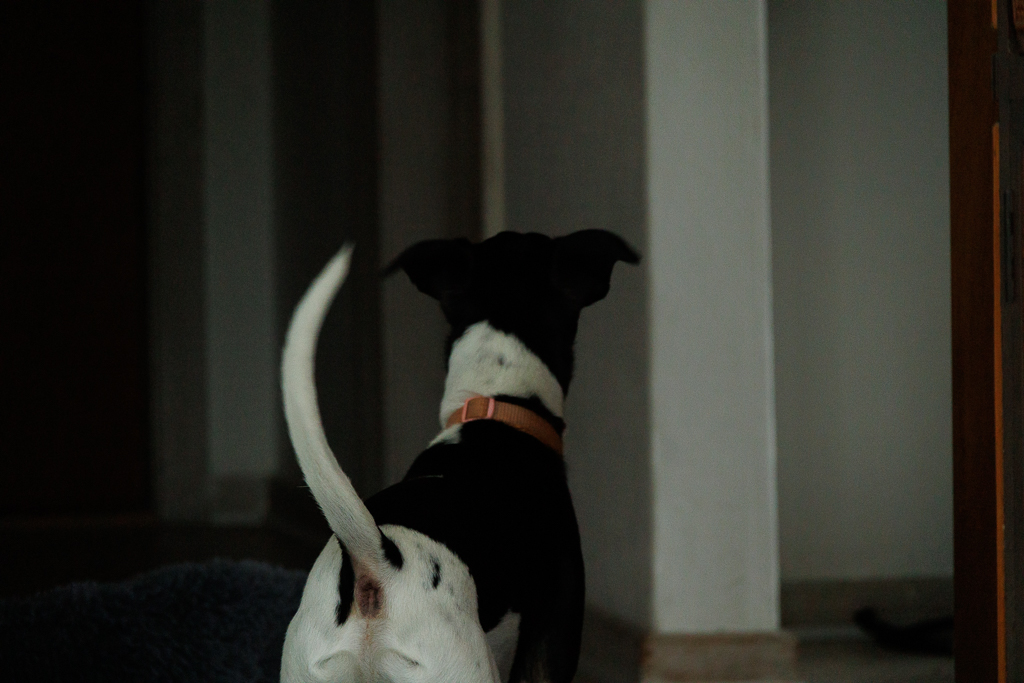Dog: (257, 216, 657, 683)
